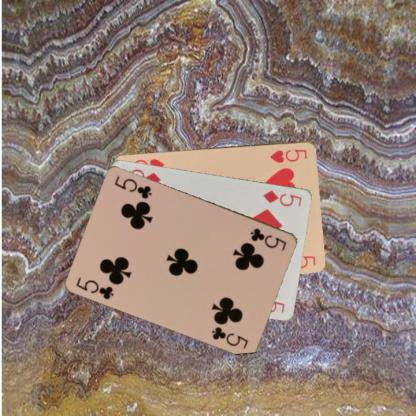5c: (74, 274, 116, 300), (248, 225, 288, 252)
5d: (260, 187, 304, 208)
5h: (268, 146, 308, 164)
